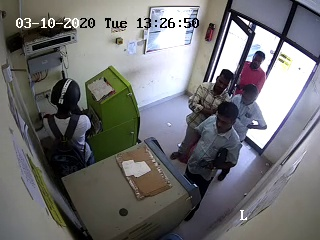helmet: (50, 77, 85, 112)
